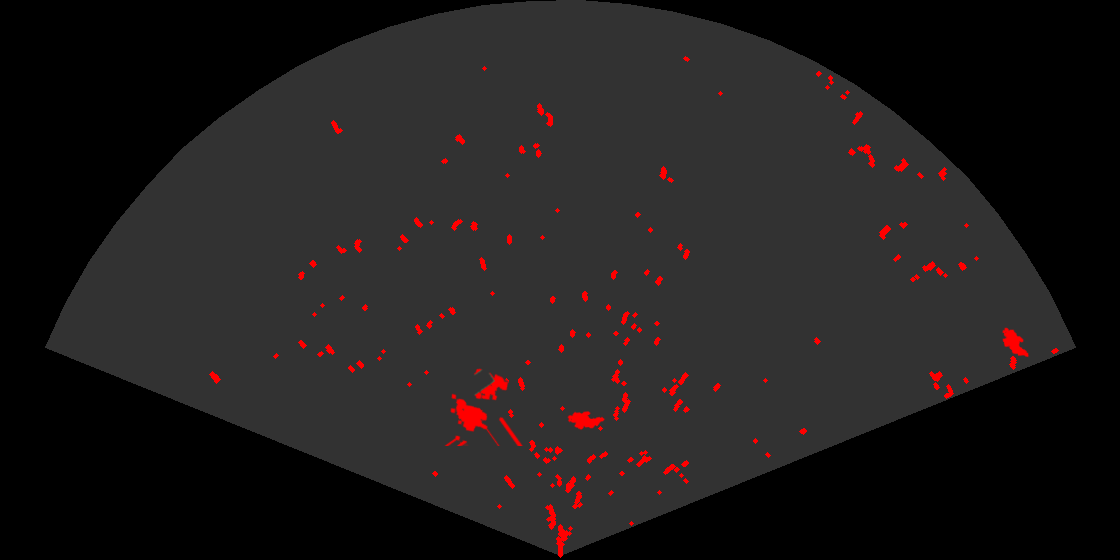AUV: (1001, 326, 1031, 359), (566, 410, 607, 432)
cage: (443, 367, 525, 446)
